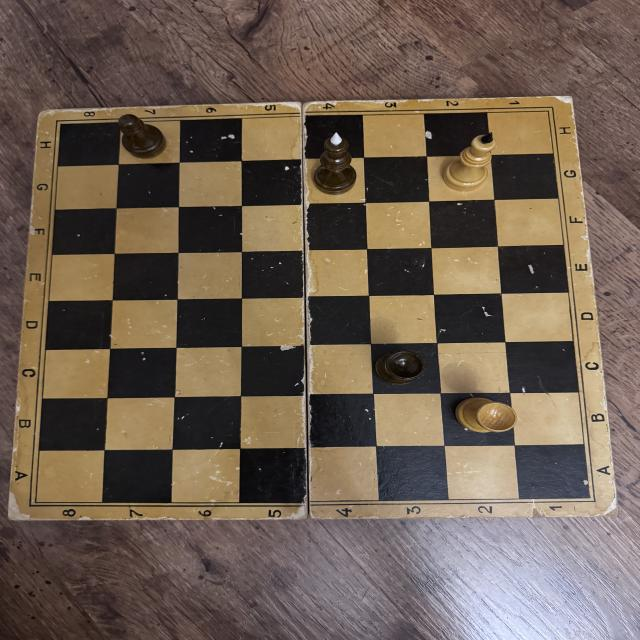black-king: (312, 130, 358, 195)
black-pawn: (118, 113, 168, 159)
black-rook: (370, 345, 428, 387)
white-king: (444, 131, 496, 189)
white-rook: (454, 396, 518, 434)
